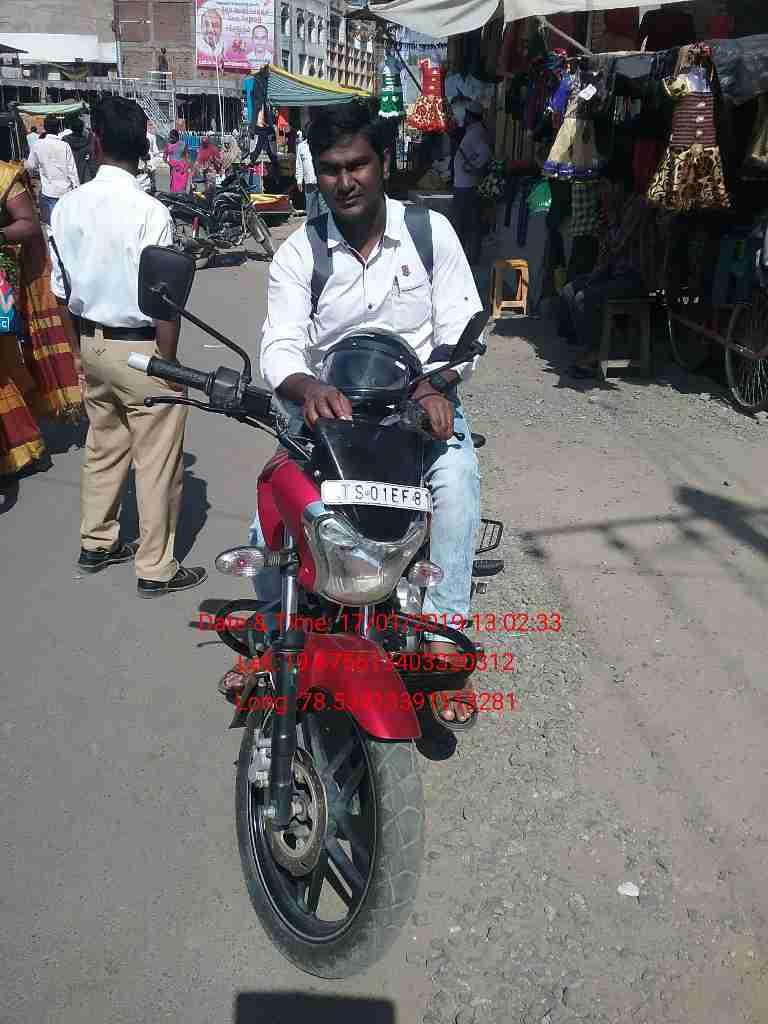plate: (321, 472, 444, 522)
